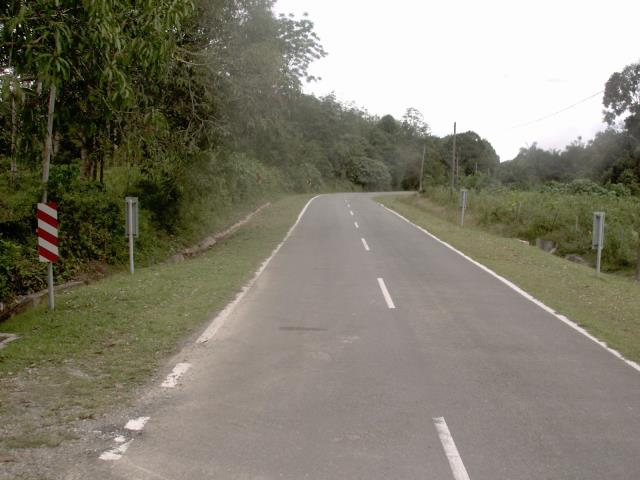traffic_sign: (31, 197, 66, 271)
